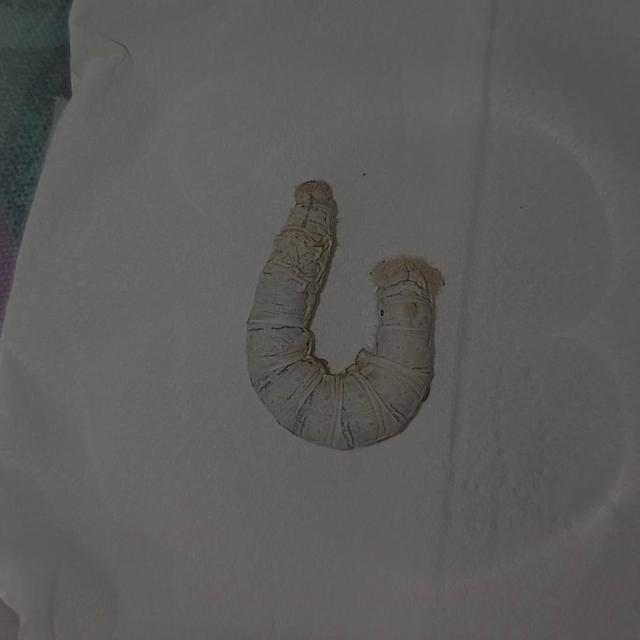Healthy: (216, 164, 492, 472)
